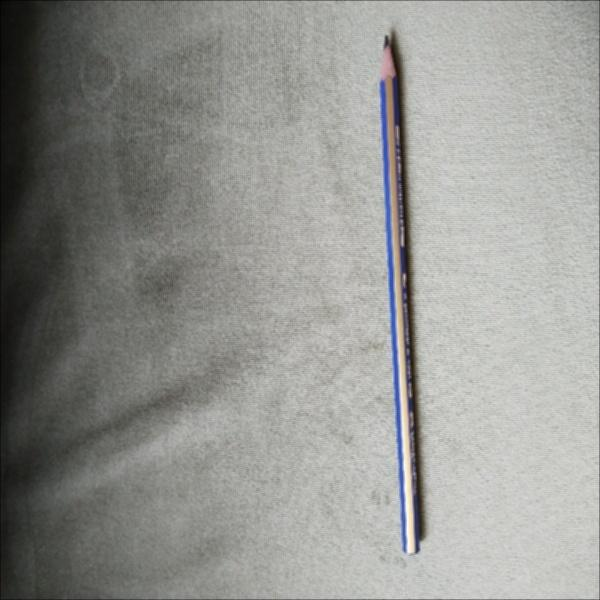pencil: (377, 29, 426, 560)
